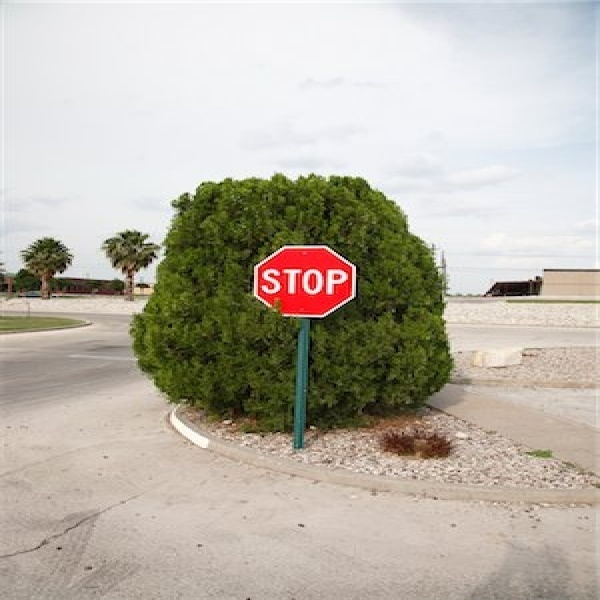stop: (251, 247, 358, 319)
